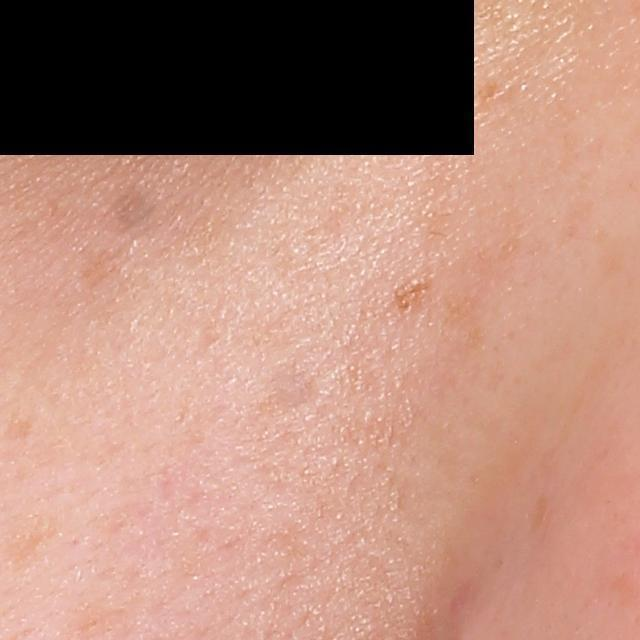melasma: (79, 244, 133, 312), (389, 275, 434, 320)
